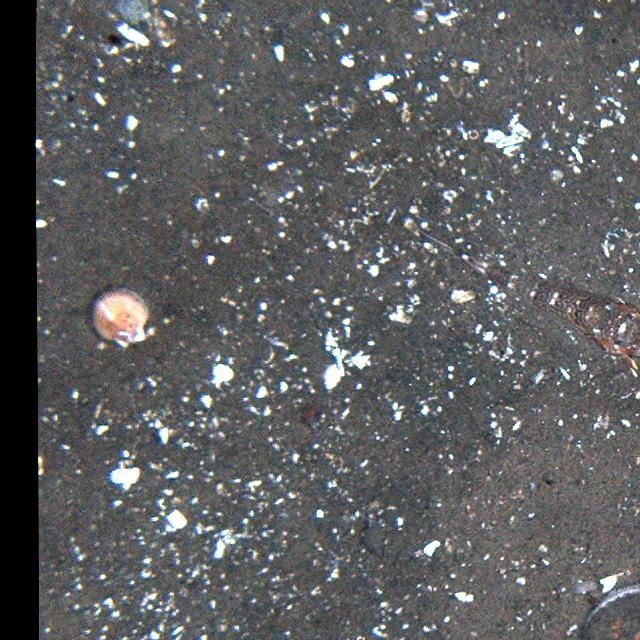scallop: (83, 283, 153, 355)
